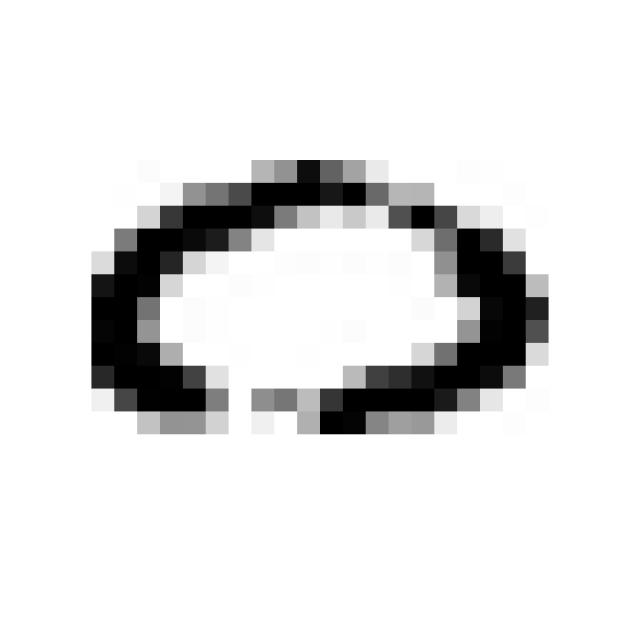5 -five-: (71, 140, 561, 446)
